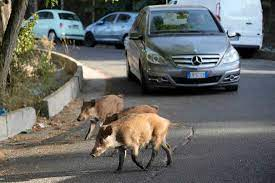boar: (89, 112, 173, 172), (78, 93, 127, 140)
